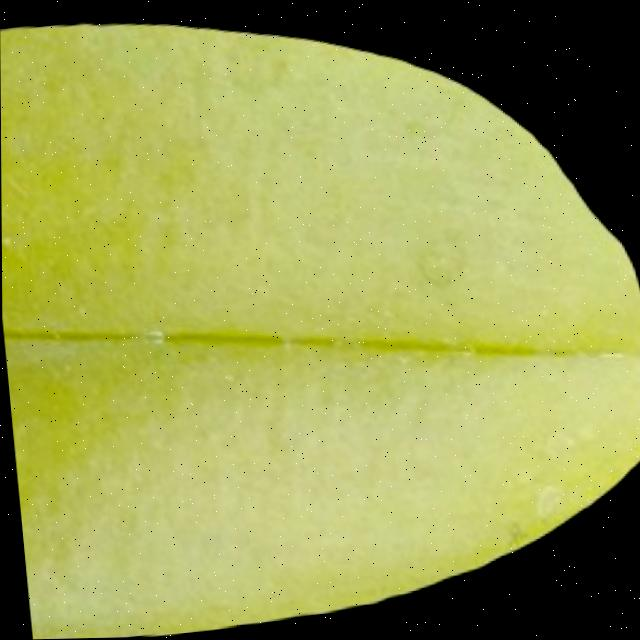mite: (498, 480, 572, 555), (521, 476, 576, 534), (412, 249, 458, 296), (497, 516, 536, 558), (530, 485, 567, 526), (136, 324, 172, 355), (402, 121, 427, 144), (506, 523, 527, 550), (142, 329, 167, 350)
spots: (0, 0, 640, 640)
